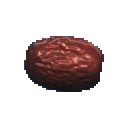gd: (21, 21, 123, 109)
